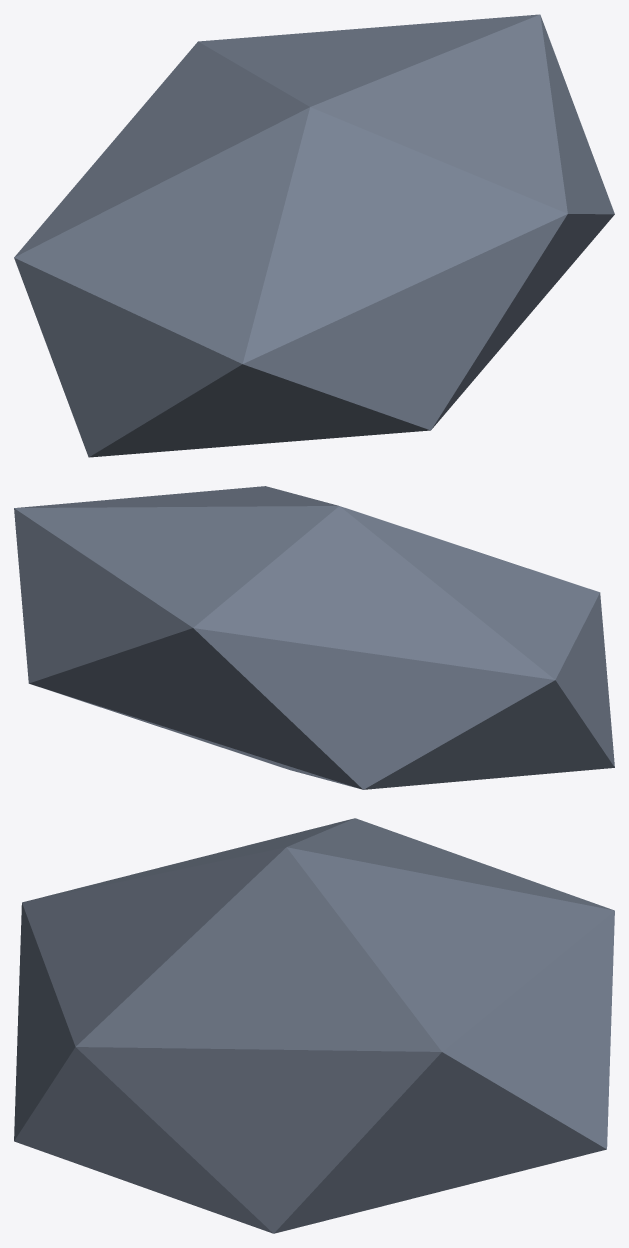
The model's file is EXTG_MainWestStone_01.glb.
The picture shows the model from 3 angles, top to bottom: view 1: azimuth 30°, elevation 25°; view 2: azimuth 150°, elevation 25°; view 3: azimuth 270°, elevation 25°; orthographic projection. The views are drawn at different scales.
Parts seen in each view (by area): view 1: EXTG_MainWestStone_01; view 2: EXTG_MainWestStone_01; view 3: EXTG_MainWestStone_01.
Boxes of the visible parts, box(x1,y1,x2,y2) form: EXTG_MainWestStone_01: box(14, 14, 614, 457); EXTG_MainWestStone_01: box(14, 486, 614, 789); EXTG_MainWestStone_01: box(14, 818, 614, 1233).
Bounding box in the file's own units: 1.15 × 0.5501 × 0.884.
